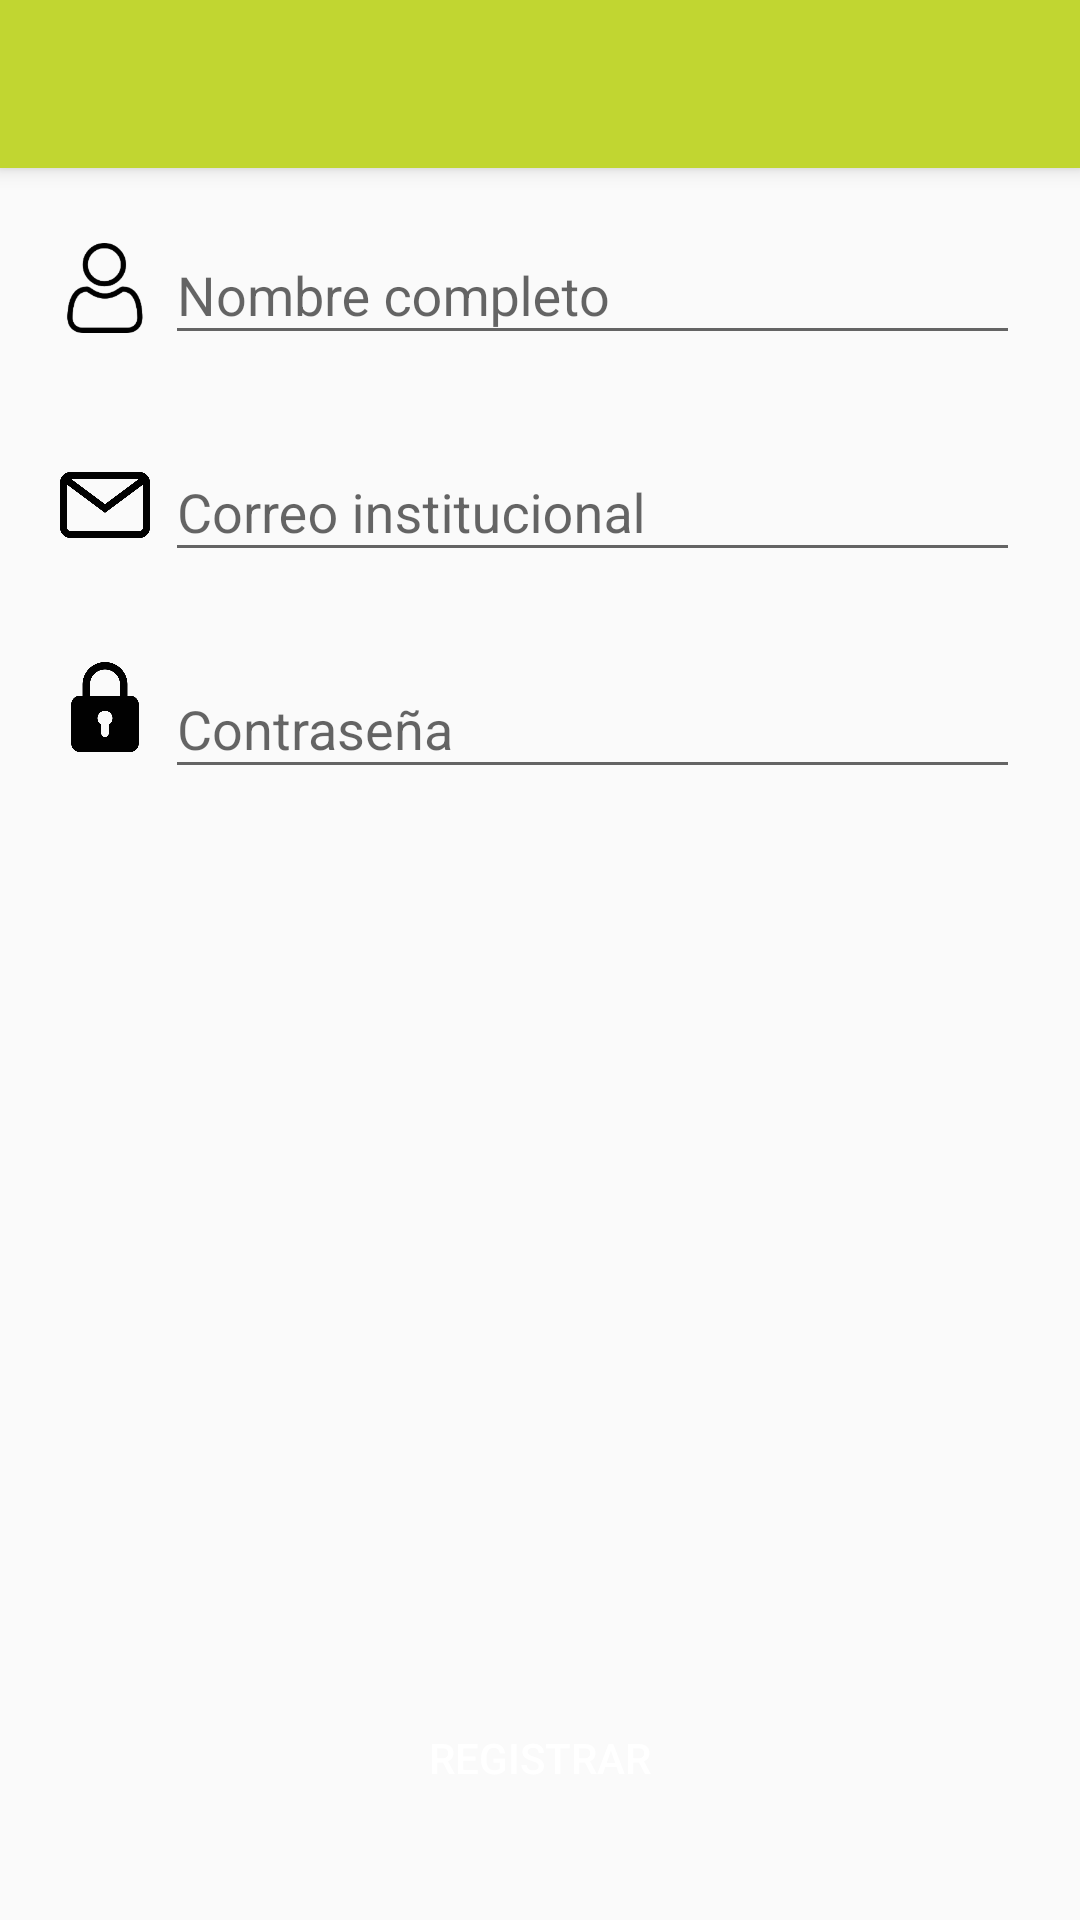

Screen size 1080*1920. Icon name, then its box in pixels as (x1,y1,x2,y2):
mail: (60,472,150,538)
padlock: (71,662,139,752)
person: (67,243,143,333)
